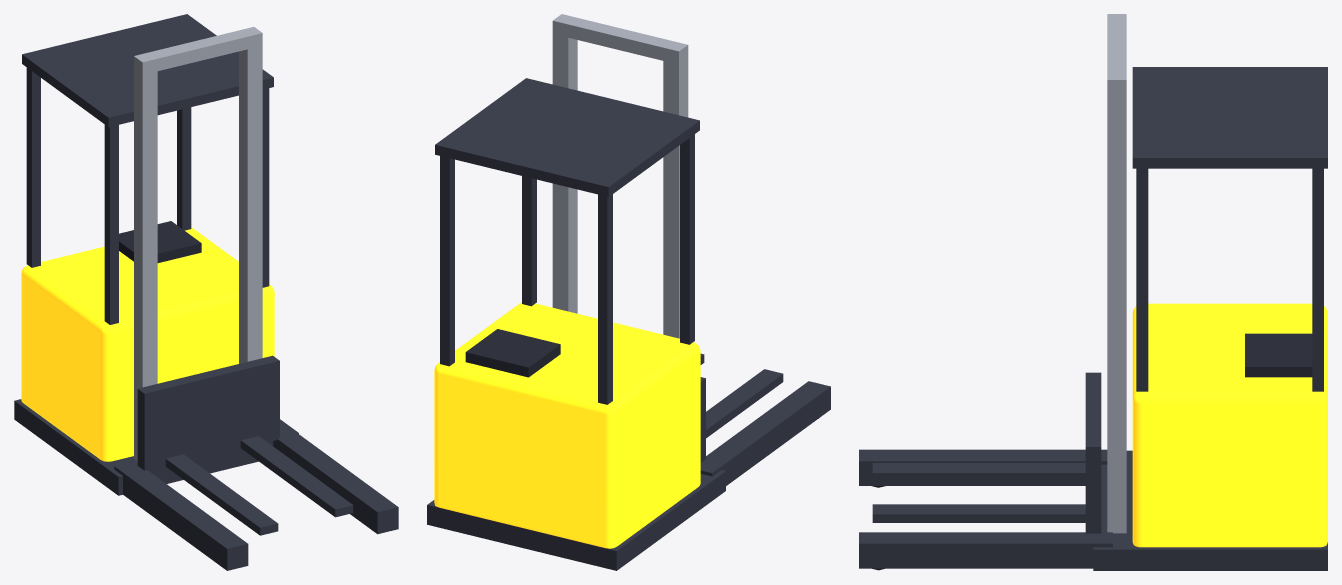
Rendered from trk-012.glb.
3 renders of one model, left to right at view 1: azimuth 30°, elevation 25°; view 2: azimuth 150°, elevation 25°; view 3: azimuth 270°, elevation 25°, orthographic. The views are drawn at different scales.
Parts seen in each view (by area): view 1: dark_steel, sign_yellow, steel, plastic_dark; view 2: sign_yellow, dark_steel, steel, plastic_dark; view 3: dark_steel, sign_yellow, steel, plastic_dark.
Boxes of the visible parts, box(x1,y1,x2,y2) form: dark_steel: box(14, 14, 398, 570); sign_yellow: box(21, 227, 274, 461); steel: box(134, 27, 262, 461); plastic_dark: box(119, 221, 201, 262); sign_yellow: box(434, 302, 700, 548); dark_steel: box(427, 78, 830, 570); steel: box(552, 14, 688, 338); plastic_dark: box(465, 329, 560, 377); dark_steel: box(859, 67, 1327, 570); sign_yellow: box(1132, 303, 1327, 547); steel: box(1107, 14, 1126, 533); plastic_dark: box(1245, 333, 1312, 377).
Size of the model in its own units: 1.2 by 2.7 by 2.4.
